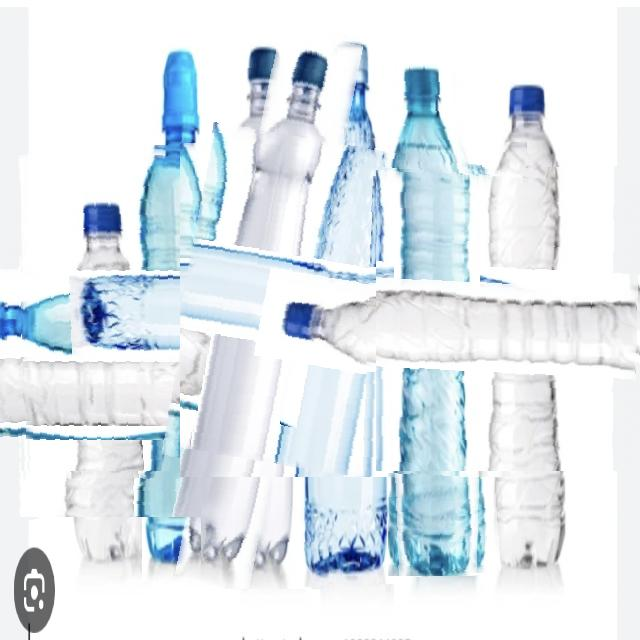recyclable: (180, 132, 527, 477), (21, 139, 354, 471), (376, 167, 640, 471), (202, 32, 338, 589), (0, 243, 246, 517), (388, 40, 492, 576)
